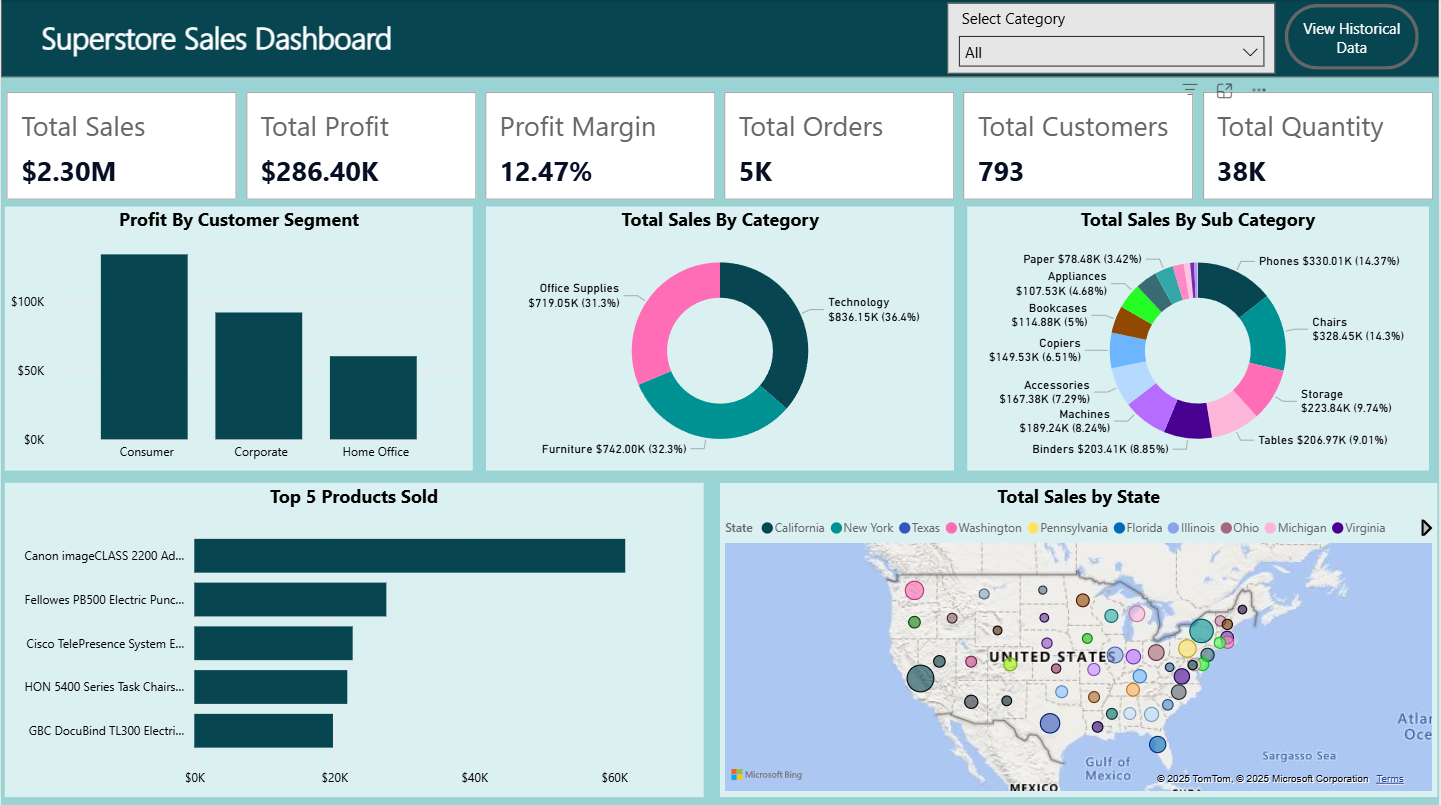

This screenshot's page, from the dashboard's own definition file:
{"tool":"powerbi","page":{"name":"Dashboard","canvas":[1280,720],"ordinal":0},"visuals":[{"type":"shape","box":[0,0,1280,69.7],"z":0,"group":"g1"},{"type":"cardVisual","fields":{"Data":["DAX_Measures.Total Sales","DAX_Measures.Total Profit","DAX_Measures.Profit Margin","DAX_Measures.Total Orders","DAX_Measures.Total Customers","DAX_Measures.Total Quantity"]},"box":[0,78.4,1280,107],"z":0},{"type":"textbox","box":[0,11.2,384.4,47.3],"z":1000,"group":"g1"},{"type":"donutChart","title":"Total Sales By Category","fields":{"Category":["DimProducts.Category"],"Y":["DAX_Measures.Total Sales"]},"box":[431.9,185.3,417.2,235.6],"z":1000},{"type":"slicer","fields":{"Values":["DimProducts.Category"]},"box":[842.4,3.7,292.3,63.4],"z":2000,"group":"g1"},{"type":"map","title":"Total Sales by State","fields":{"Category":["DimRegions.State"],"Series":["DimRegions.State"],"Size":["DAX_Measures.Total Sales"]},"box":[640.5,430.7,639.3,279.8],"z":2000},{"type":"actionButton","box":[1143.4,5,119.4,58.5],"z":3000,"group":"g1"},{"type":"columnChart","title":"Profit By Customer Segment","fields":{"Y":["DAX_Measures.Total Profit"],"Category":["DimCustomers.Segment"]},"box":[3.7,185.3,417.2,235.6],"z":3000},{"type":"donutChart","title":"Total Sales By Sub Category","fields":{"Y":["DAX_Measures.Total Sales"],"Category":["DimProducts.Sub-Category"]},"box":[860.1,185.3,411,235.6],"z":4000},{"type":"clusteredBarChart","title":"Top 5 Products Sold","fields":{"Category":["DimProducts.Product Name"],"Y":["DAX_Measures.Total Sales"]},"box":[3.7,430.7,622.1,279.8],"z":5000},{"type":"group","id":"g1","title":"Header","box":[0,0,1280,69.7],"z":6000}]}

Visuals, with their boxes in screenshot pixels (x1, y1, x2, y2), scaled from the page's 1280x720 canvas onto the 1441x805 screenshot:
shape: x1=0, y1=0, x2=1440, y2=78
cardVisual - DAX_Measures.Total Sales x DAX_Measures.Total Profit: x1=0, y1=88, x2=1440, y2=207
textbox: x1=0, y1=13, x2=433, y2=65
"Total Sales By Category" donutChart: x1=486, y1=207, x2=956, y2=471
slicer - DimProducts.Category: x1=948, y1=4, x2=1277, y2=75
"Total Sales by State" map: x1=721, y1=482, x2=1440, y2=794
actionButton: x1=1287, y1=6, x2=1422, y2=71
"Profit By Customer Segment" columnChart: x1=4, y1=207, x2=474, y2=471
"Total Sales By Sub Category" donutChart: x1=968, y1=207, x2=1431, y2=471
"Top 5 Products Sold" clusteredBarChart: x1=4, y1=482, x2=705, y2=794
"Header" group: x1=0, y1=0, x2=1440, y2=78
